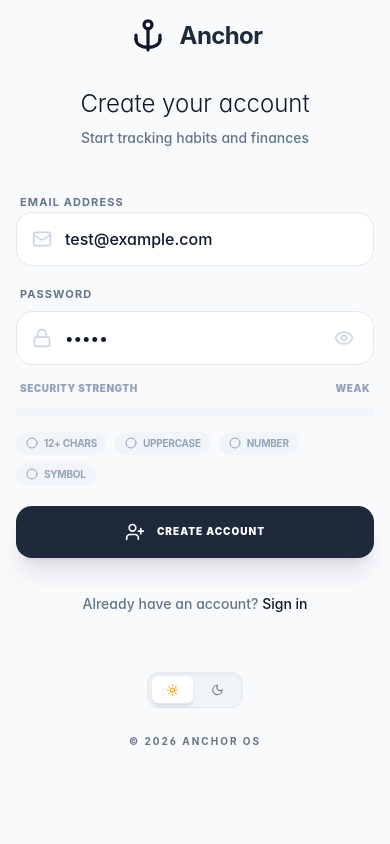
AuthView › validates password length on signup
Click the button "Create Account": (195, 532) [16,506,374,558]
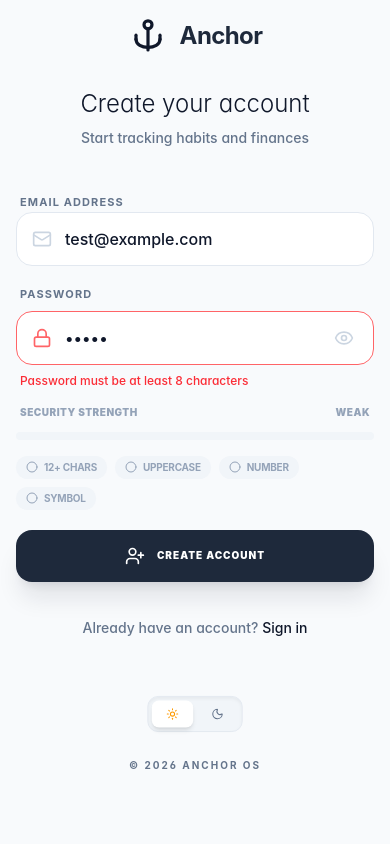
Expected: the text "Password must be at least 8 characters" is shown, [20,372,248,388]
